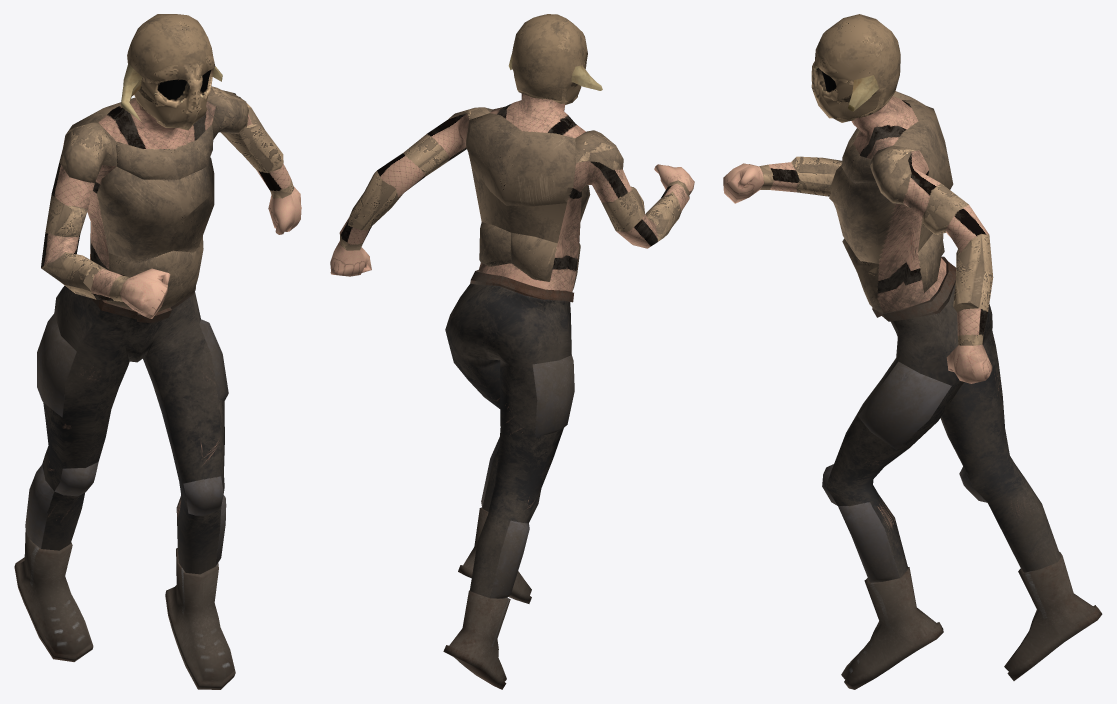
The model's file is Anim_correr_npc1.0035.obj.
3 renders of one model, left to right at view 1: azimuth 30°, elevation 25°; view 2: azimuth 150°, elevation 25°; view 3: azimuth 270°, elevation 25°, orthographic. The views are drawn at different scales.
Parts seen in each view (by area): view 1: Anim_correr_npc1; view 2: Anim_correr_npc1; view 3: Anim_correr_npc1.
Part boxes in pixels (box(x1,y1,x2,y2)): Anim_correr_npc1: box(14, 14, 301, 689); Anim_correr_npc1: box(330, 14, 694, 689); Anim_correr_npc1: box(723, 14, 1102, 689).
Bounding box in the file's own units: 4.65 × 9.81 × 5.04.
